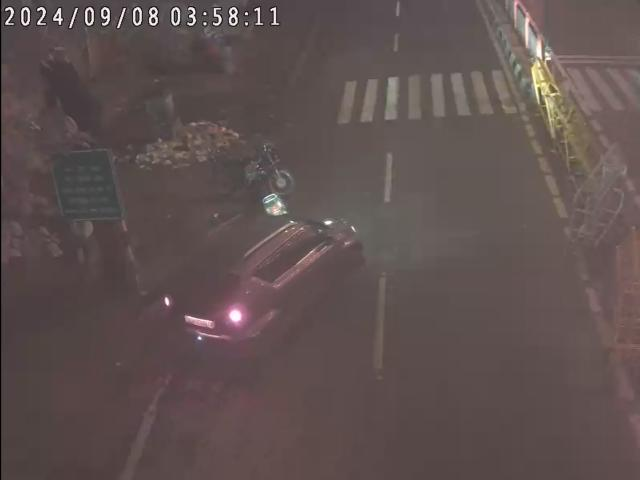car: (161, 210, 371, 352)
